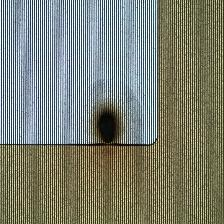PARTICLE: (70, 86, 146, 162)
